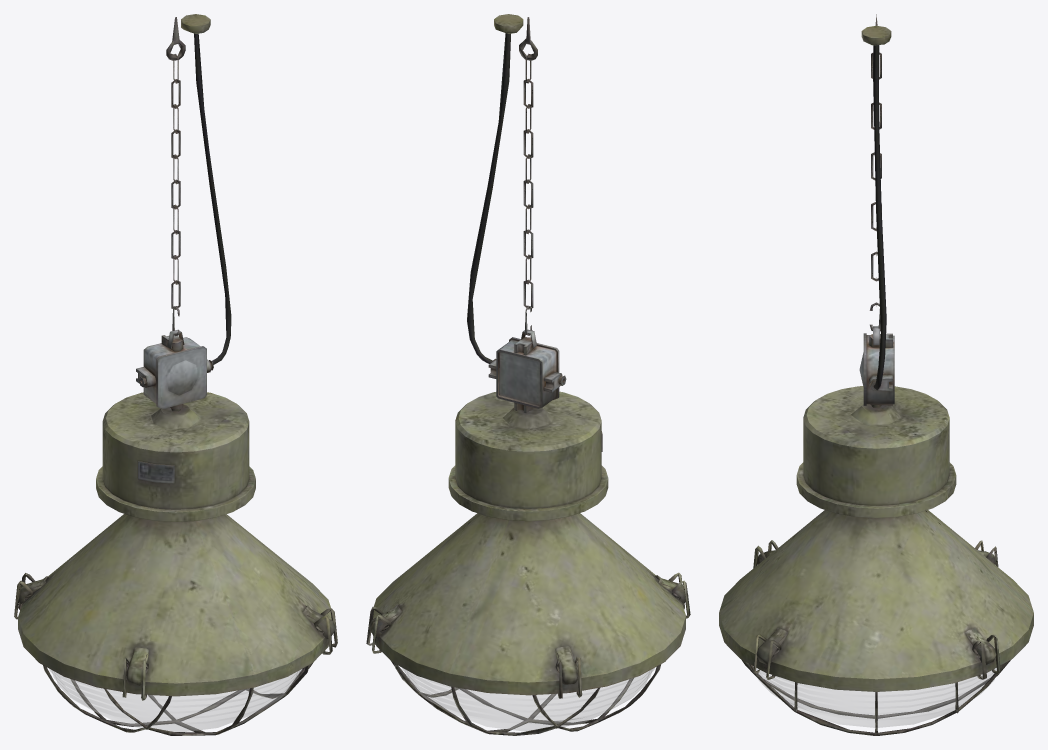
Rendered from hanging_industrial_lamp.glb.
The picture shows the model from 3 angles, left to right: view 1: azimuth 30°, elevation 25°; view 2: azimuth 150°, elevation 25°; view 3: azimuth 270°, elevation 25°; orthographic projection.
Visible parts, largest first — view 1: hanging_industrial_lamp; view 2: hanging_industrial_lamp; view 3: hanging_industrial_lamp.
Boxes of the visible parts, x1,y1,x2,y2 form: hanging_industrial_lamp: [14, 14, 337, 735]; hanging_industrial_lamp: [366, 14, 690, 735]; hanging_industrial_lamp: [719, 14, 1033, 735].
Size of the model in its own units: 0.5496 by 1.36 by 0.5496.
Materials: 2 (1 with a texture image).
